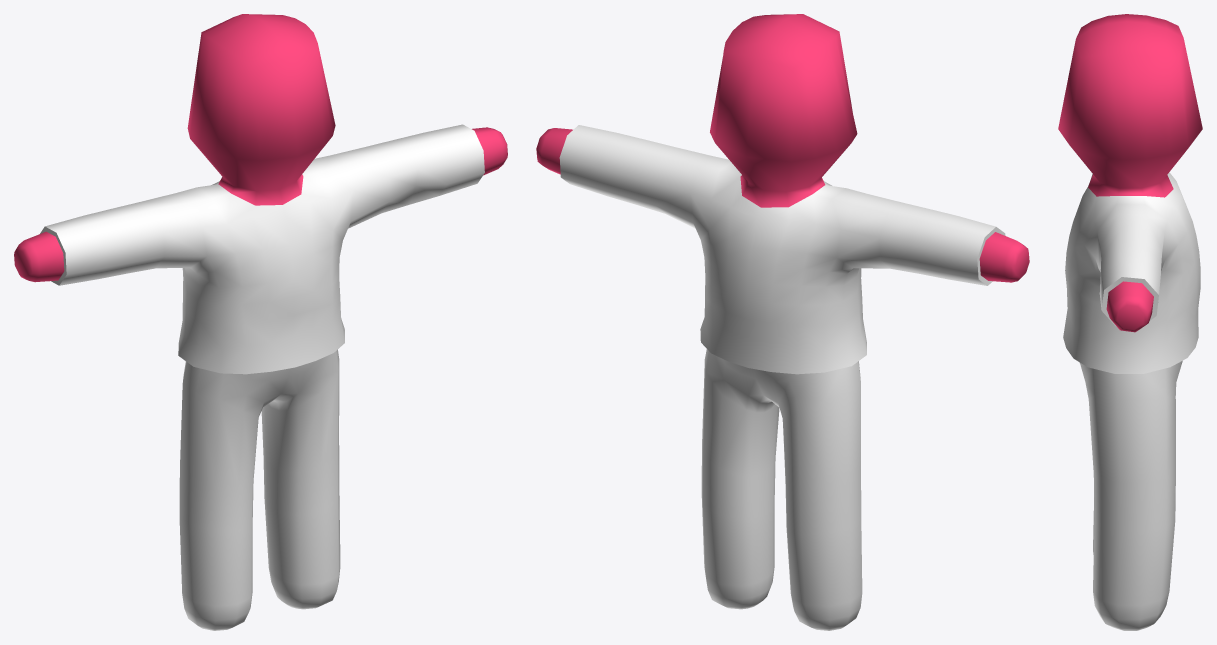
The model's file is Customer_Only.fbx.
3 renders of one model, left to right at view 1: azimuth 30°, elevation 25°; view 2: azimuth 150°, elevation 25°; view 3: azimuth 270°, elevation 25°, orthographic.
Visible parts, largest first — view 1: Customer; view 2: Customer; view 3: Customer.
Part boxes in pixels (x1,y1,x2,y2): Customer: (14, 14, 507, 630); Customer: (536, 14, 1029, 630); Customer: (1058, 14, 1202, 630).
Bounding box in the file's own units: 216 × 256 × 57.56.
